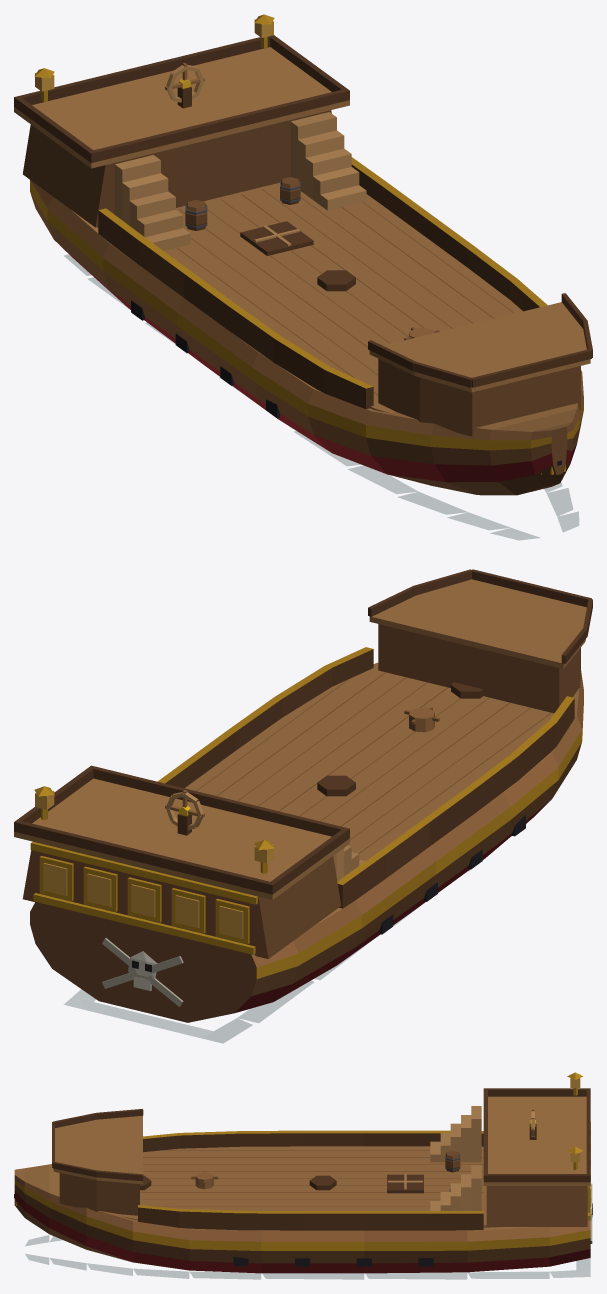
The model's file is Decor_PirateShip_Hull.fbx.
3 renders of one model, top to bottom at view 1: azimuth 30°, elevation 25°; view 2: azimuth 150°, elevation 25°; view 3: azimuth 270°, elevation 25°, orthographic. The views are drawn at different scales.
Visible parts, largest first — view 1: Hull_Body; view 2: Hull_Body; view 3: Hull_Body.
Part boxes in pixels (left/top/right/bottom): Hull_Body: left=14, top=14, right=592, bottom=540; Hull_Body: left=14, top=569, right=592, bottom=1043; Hull_Body: left=14, top=1072, right=592, bottom=1279.
Bounding box in the file's own units: 20 × 15.5 × 56.
